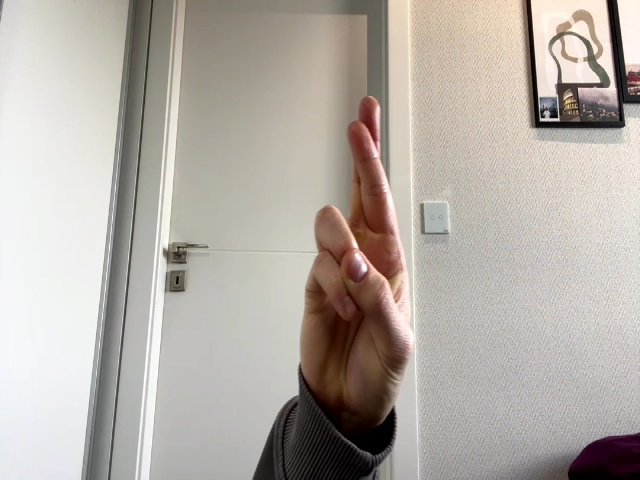R: (301, 96, 413, 425)
